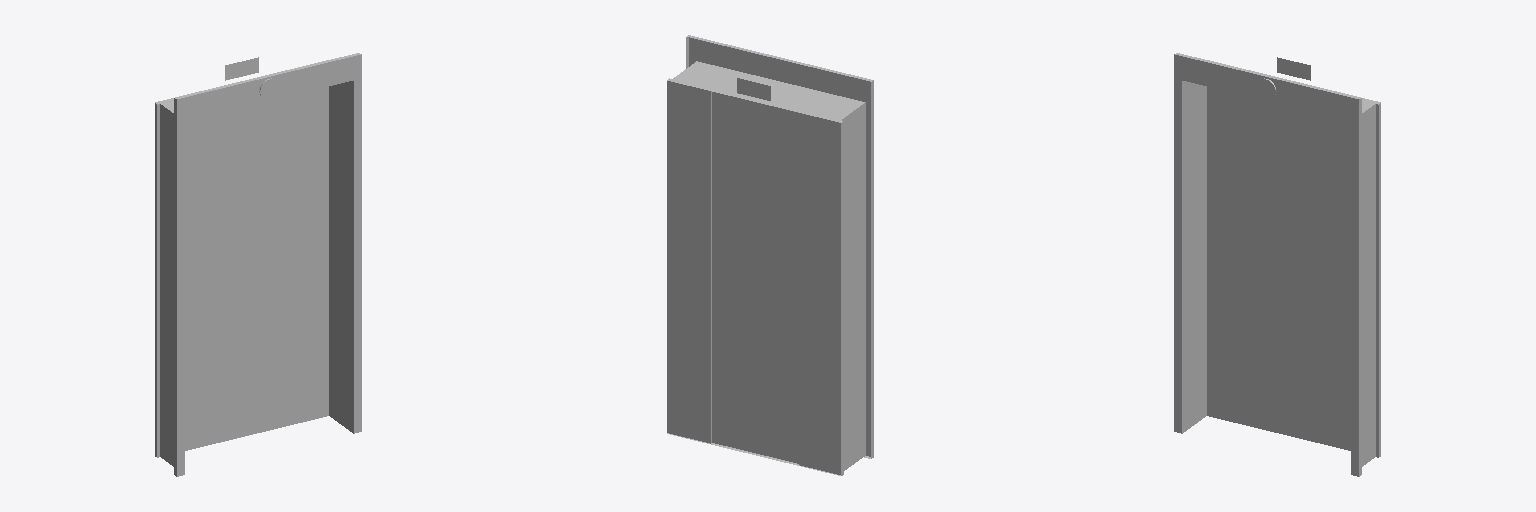
Rendered from elevator-door.obj.
3 renders of one model, left to right at view 1: azimuth 30°, elevation 25°; view 2: azimuth 150°, elevation 25°; view 3: azimuth 330°, elevation 25°, orthographic.
Visible parts, largest first — view 1: Layer0_001; view 2: Layer0_001; view 3: Layer0_001.
Boxes of the visible parts, <box> form: Layer0_001: <box>155,53,361,476</box>; Layer0_001: <box>667,35,873,475</box>; Layer0_001: <box>1174,53,1380,476</box>.
Size of the model in its own units: 46 by 89.75 by 12.12.